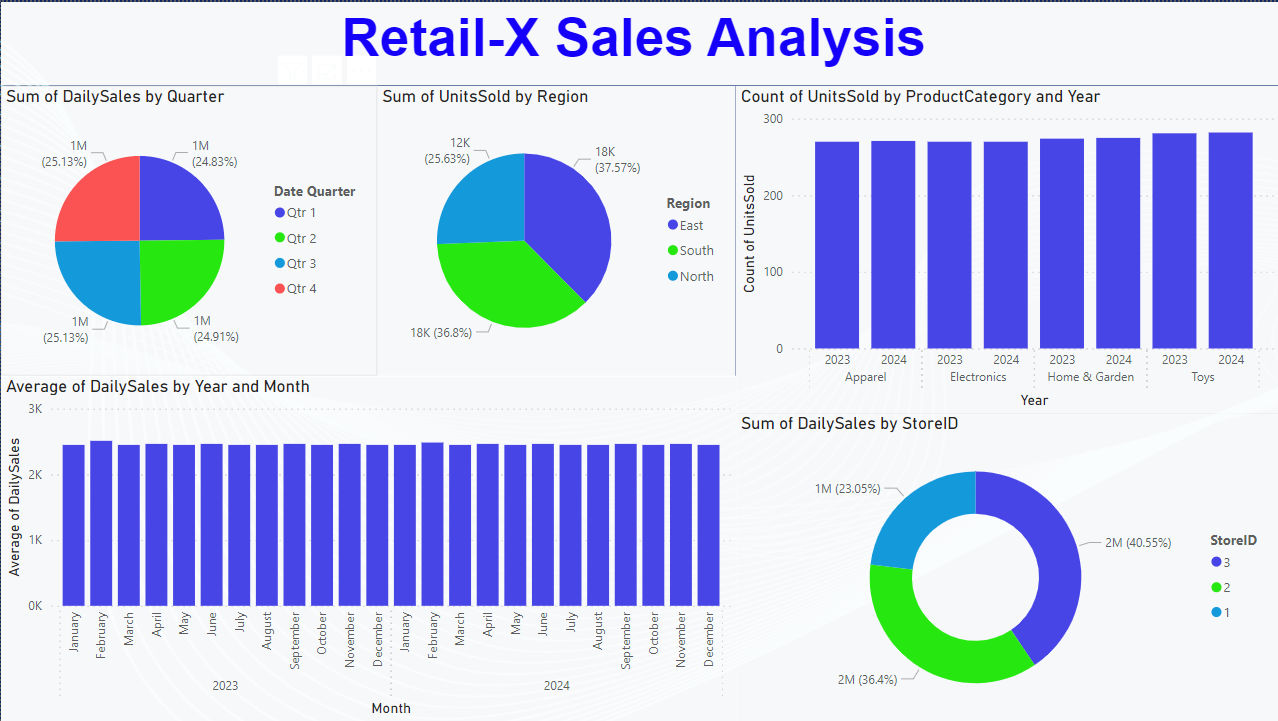

The dashboard page shown, as its layout file describes it:
{"tool":"powerbi","page":{"name":"Page 1","canvas":[1280,720],"ordinal":0},"visuals":[{"type":"clusteredColumnChart","fields":{"Category":["RetailX_Sales_Data csv.Date.Variation.Date Hierarchy.Year","RetailX_Sales_Data csv.Date.Variation.Date Hierarchy.Month"],"Y":["Avg(RetailX_Sales_Data csv.DailySales)"]},"box":[0,374.2,734.9,346.1],"z":0},{"type":"pieChart","fields":{"Category":["RetailX_Sales_Data csv.Date.Variation.Date Hierarchy.Quarter"],"Y":["Sum(RetailX_Sales_Data csv.DailySales)"]},"box":[0,83.2,376.6,291],"z":1000},{"type":"pieChart","fields":{"Category":["RetailX_Sales_Data csv.Region"],"Y":["Sum(RetailX_Sales_Data csv.UnitsSold)"]},"box":[376.6,83.2,358.3,291],"z":2000},{"type":"donutChart","fields":{"Category":["RetailX_Sales_Data csv.StoreID"],"Y":["Sum(RetailX_Sales_Data csv.DailySales)"]},"box":[734.9,410.9,545.4,309.4],"z":3000},{"type":"clusteredColumnChart","fields":{"Category":["RetailX_Sales_Data csv.ProductCategory","RetailX_Sales_Data csv.Date.Variation.Date Hierarchy.Year"],"Y":["CountNonNull(RetailX_Sales_Data csv.UnitsSold)"]},"box":[734.9,83.2,545.4,327.7],"z":4000},{"type":"textbox","box":[0,0,1280.3,83.2],"z":4002}]}

Visuals, with their boxes in screenshot pixels (x1, y1, x2, y2), scaled from the page's 1280x720 canvas onto the 1278x721 screenshot:
clusteredColumnChart - RetailX_Sales_Data csv.Date.Variation.Date Hierarchy.Year x RetailX_Sales_Data csv.Date.Variation.Date Hierarchy.Month: <bbox>0, 375, 734, 720</bbox>
pieChart - RetailX_Sales_Data csv.Date.Variation.Date Hierarchy.Quarter x Sum(RetailX_Sales_Data csv.DailySales): <bbox>0, 83, 376, 375</bbox>
pieChart - RetailX_Sales_Data csv.Region x Sum(RetailX_Sales_Data csv.UnitsSold): <bbox>376, 83, 734, 375</bbox>
donutChart - RetailX_Sales_Data csv.StoreID x Sum(RetailX_Sales_Data csv.DailySales): <bbox>734, 411, 1277, 720</bbox>
clusteredColumnChart - RetailX_Sales_Data csv.ProductCategory x RetailX_Sales_Data csv.Date.Variation.Date Hierarchy.Year: <bbox>734, 83, 1277, 411</bbox>
textbox: <bbox>0, 0, 1277, 83</bbox>
